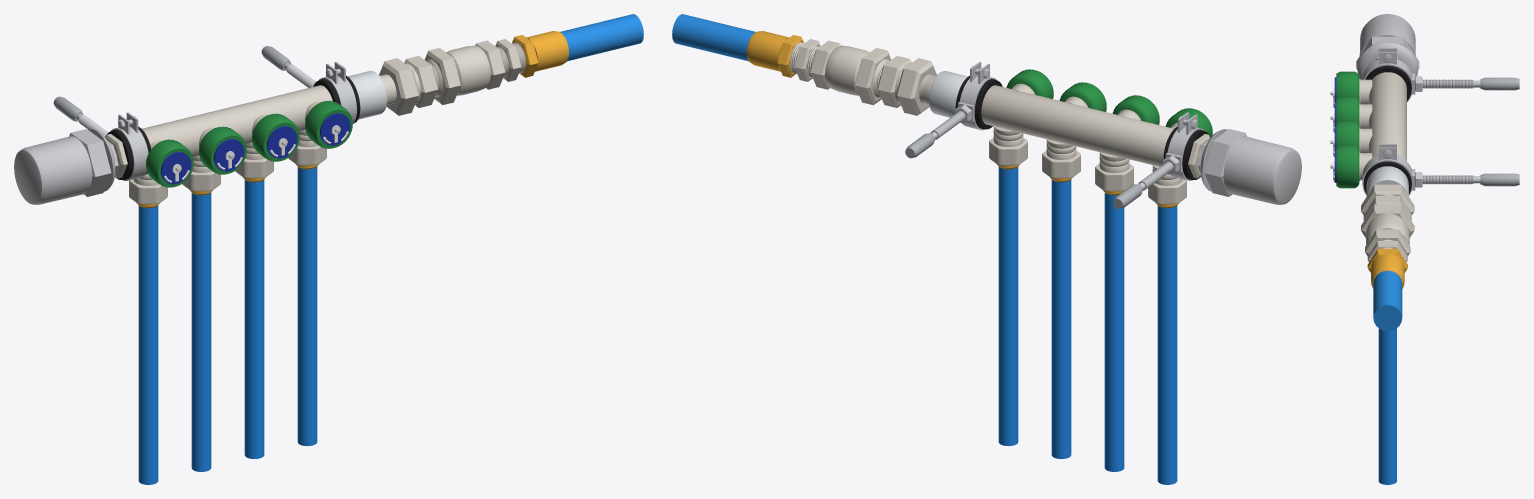
Rendered from water_manifold_cw4_st.glb.
The picture shows the model from 3 angles, left to right: view 1: azimuth 30°, elevation 25°; view 2: azimuth 150°, elevation 25°; view 3: azimuth 270°, elevation 25°; orthographic projection. The views are drawn at different scales.
Parts seen in each view (by area): view 1: труба16.002, труба16, труба16.001, труба16.003, корпус, компенсатор крышка, подающая труба, корпус крана, сгон гайка, компенсатор SW47, удлинитель, гильза (+13 smaller); view 2: корпус, труба16.002, труба16, труба16.003, труба16.001, компенсатор крышка, подающая труба, корпус крана, сгон гайка, компенсатор SW47, удлинитель, гильза (+10 smaller); view 3: труба16.003, корпус, подающая труба, компенсатор крышка, колпак.003, компенсатор низ, удлинитель, корпус крана, сгон гайка, гайка американки, гильза, колпак (+18 smaller).
Part boxes in pixels (left/top/right/bottom): труба16.002: left=244, top=180, right=264, bottom=458; труба16: left=138, top=205, right=158, bottom=484; труба16.001: left=191, top=193, right=211, bottom=471; труба16.003: left=297, top=167, right=317, bottom=446; корпус: left=142, top=85, right=332, bottom=157; компенсатор крышка: left=14, top=136, right=92, bottom=204; подающая труба: left=560, top=14, right=643, bottom=61; корпус крана: left=446, top=45, right=490, bottom=95; сгон гайка: left=379, top=58, right=419, bottom=115; компенсатор SW47: left=69, top=129, right=111, bottom=196; удлинитель: left=348, top=71, right=386, bottom=119; гильза: left=526, top=31, right=568, bottom=71; корпус: left=981, top=85, right=1173, bottom=166; труба16.002: left=1051, top=180, right=1071, bottom=458; труба16: left=1157, top=205, right=1177, bottom=484; труба16.003: left=998, top=167, right=1018, bottom=446; труба16.001: left=1104, top=193, right=1124, bottom=471; компенсатор крышка: left=1223, top=136, right=1301, bottom=204; подающая труба: left=672, top=14, right=755, bottom=61; корпус крана: left=825, top=45, right=869, bottom=95; сгон гайка: left=896, top=58, right=936, bottom=115; компенсатор SW47: left=1204, top=129, right=1246, bottom=196; удлинитель: left=929, top=71, right=967, bottom=117; гильза: left=747, top=31, right=789, bottom=71; труба16.003: left=1378, top=328, right=1396, bottom=484; корпус: left=1368, top=72, right=1406, bottom=160; подающая труба: left=1373, top=270, right=1402, bottom=331; компенсатор крышка: left=1359, top=14, right=1415, bottom=55; колпак.003: left=1336, top=145, right=1359, bottom=188; компенсатор низ: left=1357, top=42, right=1417, bottom=79; удлинитель: left=1366, top=166, right=1408, bottom=196; корпус крана: left=1366, top=213, right=1409, bottom=245; сгон гайка: left=1361, top=184, right=1414, bottom=214; гайка американки: left=1361, top=204, right=1414, bottom=237; гильза: left=1371, top=253, right=1404, bottom=288; колпак: left=1336, top=71, right=1359, bottom=99.
Bounding box in the file's own units: 0.575 × 0.3322 × 0.1637.
